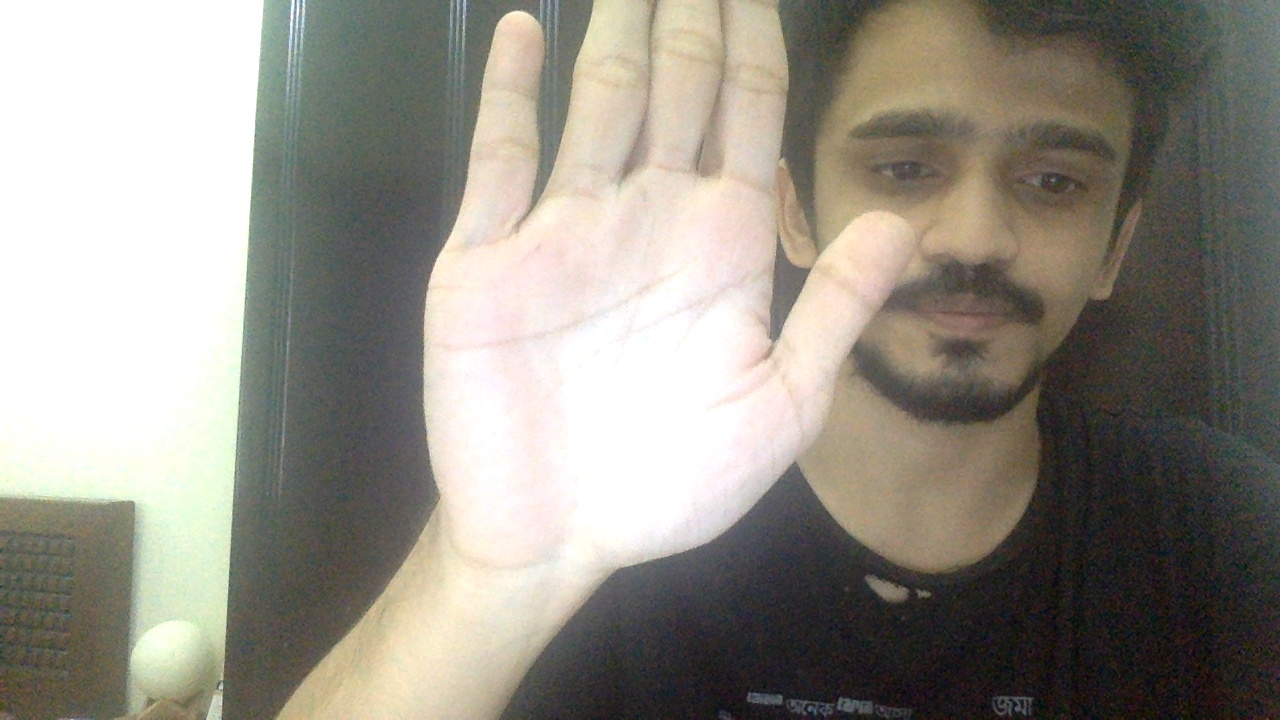stop: (421, 3, 915, 565)
